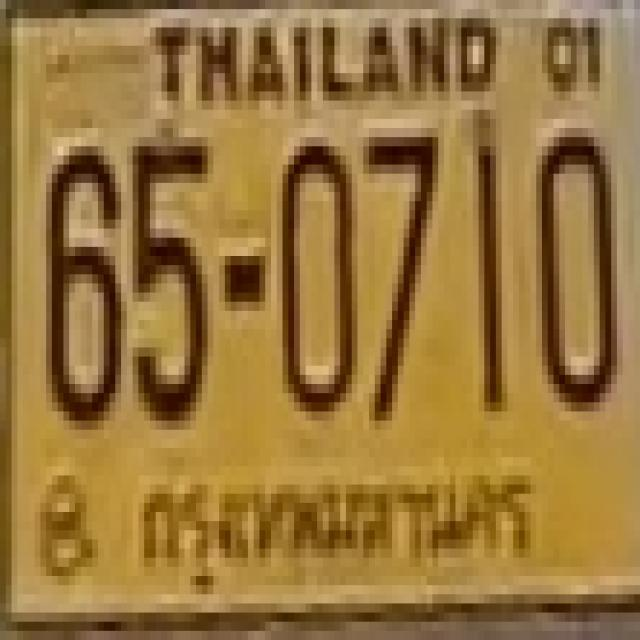0: (533, 128, 614, 402), (276, 137, 352, 412)
1: (470, 123, 499, 407)
5: (130, 133, 204, 416)
6: (40, 137, 116, 421)
7: (363, 133, 432, 416), (363, 128, 432, 329)
BKK: (127, 456, 546, 594)
